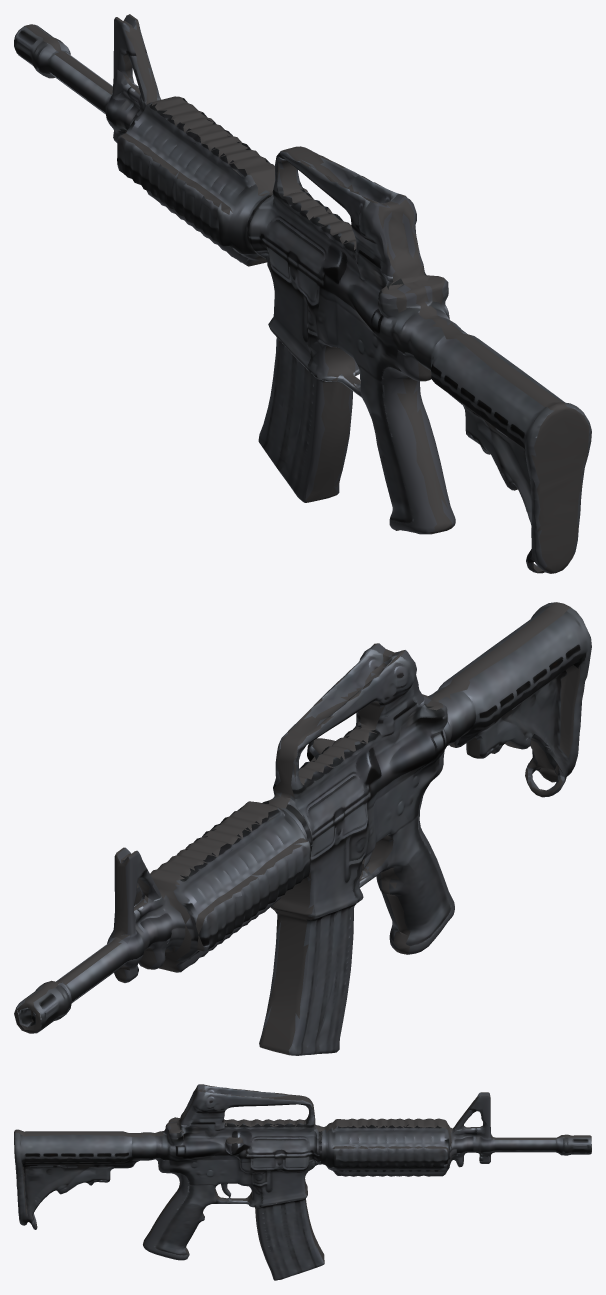
3 views of the same model, one above another, from view 1: azimuth 30°, elevation 25°; view 2: azimuth 150°, elevation 25°; view 3: azimuth 270°, elevation 25° (orthographic). The views are drawn at different scales.
Visible parts, largest first — view 1: Mesh_0; view 2: Mesh_0; view 3: Mesh_0.
Boxes of the visible parts, x1,y1,x2,y2 form: Mesh_0: (14, 14, 591, 573); Mesh_0: (14, 602, 591, 1055); Mesh_0: (14, 1084, 591, 1280).
Size of the model in its own units: 0.0885 by 0.304 by 0.84.
Materials: 1 (1 with a texture image).
